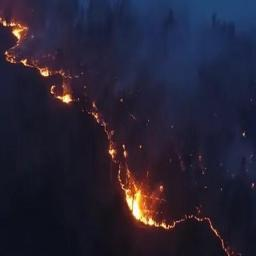Medium fire: (0, 6, 256, 256)
